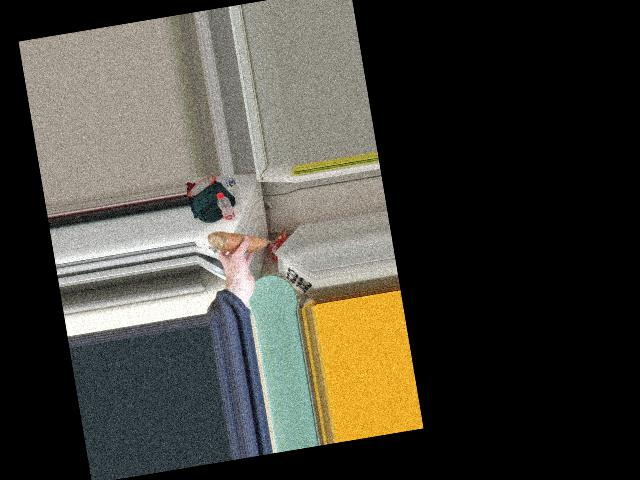sweet_potato: (207, 227, 273, 255)
